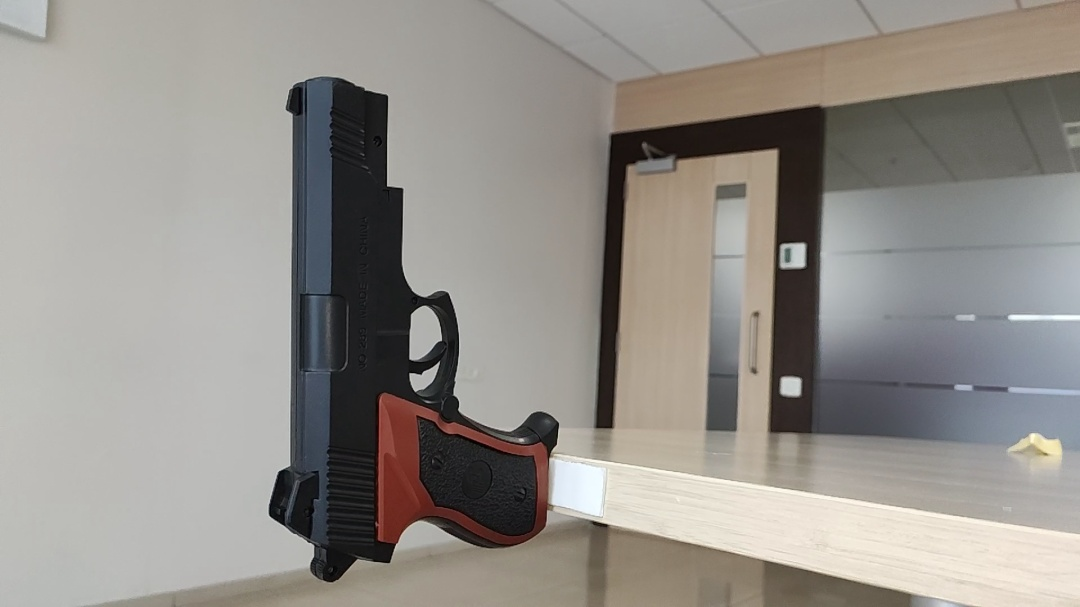gun: (269, 76, 564, 584)
